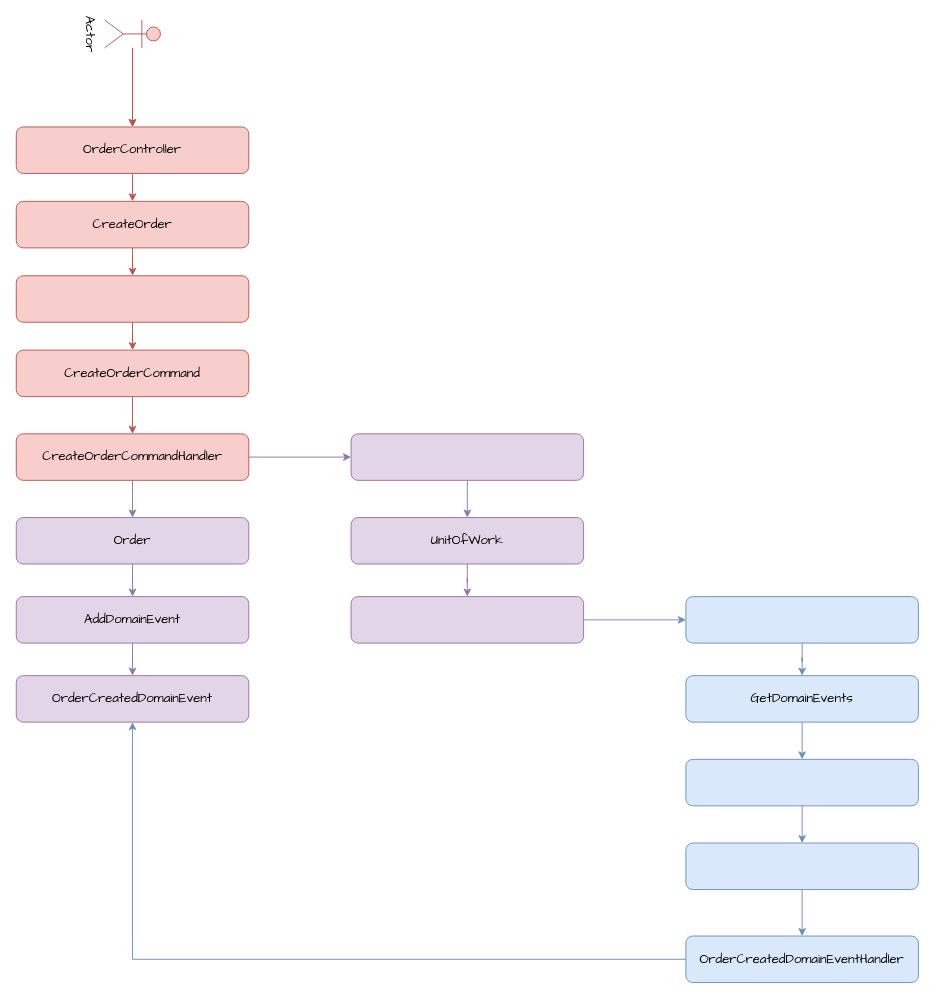
The diagram is 935 pixels wide and 999 high, and some of its shapes have lost their labels. The centre of each missing label's shape, as x and y in pixels:
"ClearDomainEvents" goes at (x=801, y=782).
"DispatchDomainEventsAsync" goes at (x=801, y=619).
"OrderRepository" goes at (x=467, y=456).
"PublishDomainEvents" goes at (x=801, y=866).
"SaveEntitiesAsync" goes at (x=467, y=619).
"SendCommand" goes at (x=132, y=298).
